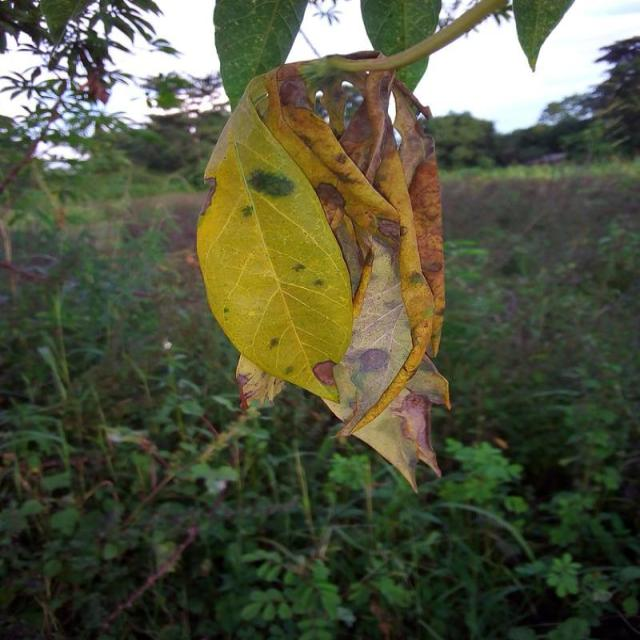cassava leaf: (196, 48, 452, 493)
